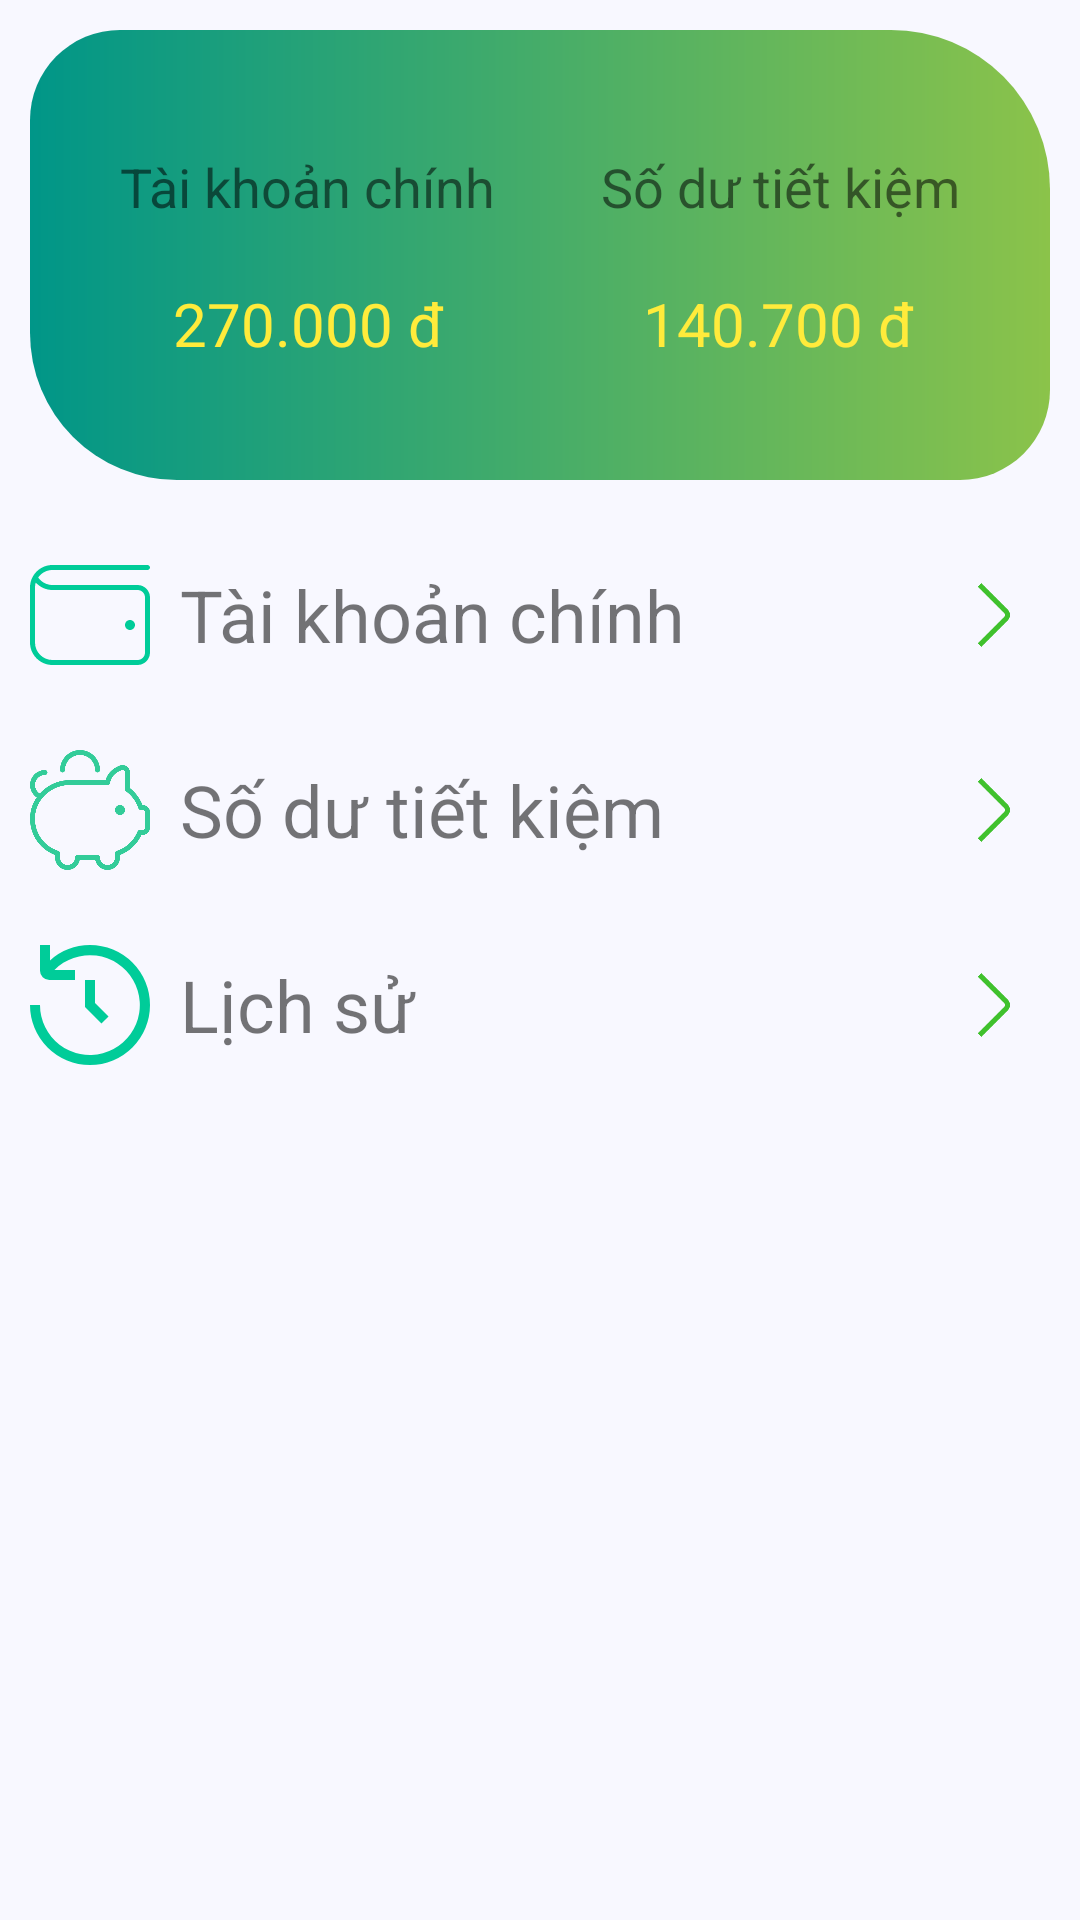

Where icons sit on this 1080px x 1920px app screen, as (x1, y1, x2, y2):
lichsu: (30, 945, 150, 1065)
right: (978, 583, 1010, 647), (978, 778, 1010, 842), (978, 973, 1010, 1037)
